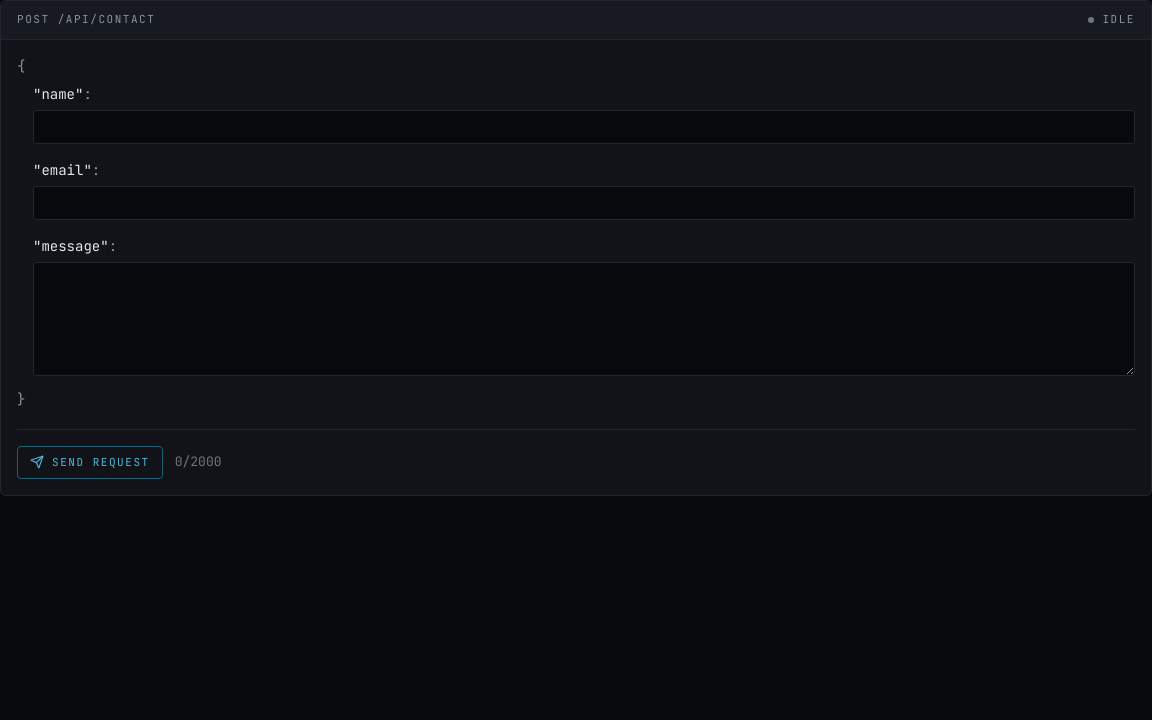
ContactTerminal — validación de cliente › rechaza un email mal formado sin tocar el servidor
This screenshot has width=1152, height=720.
Type "Ana" into the field labelled "\"name\":" at (584, 127), box x1=33 y1=110 x2=1135 y2=144
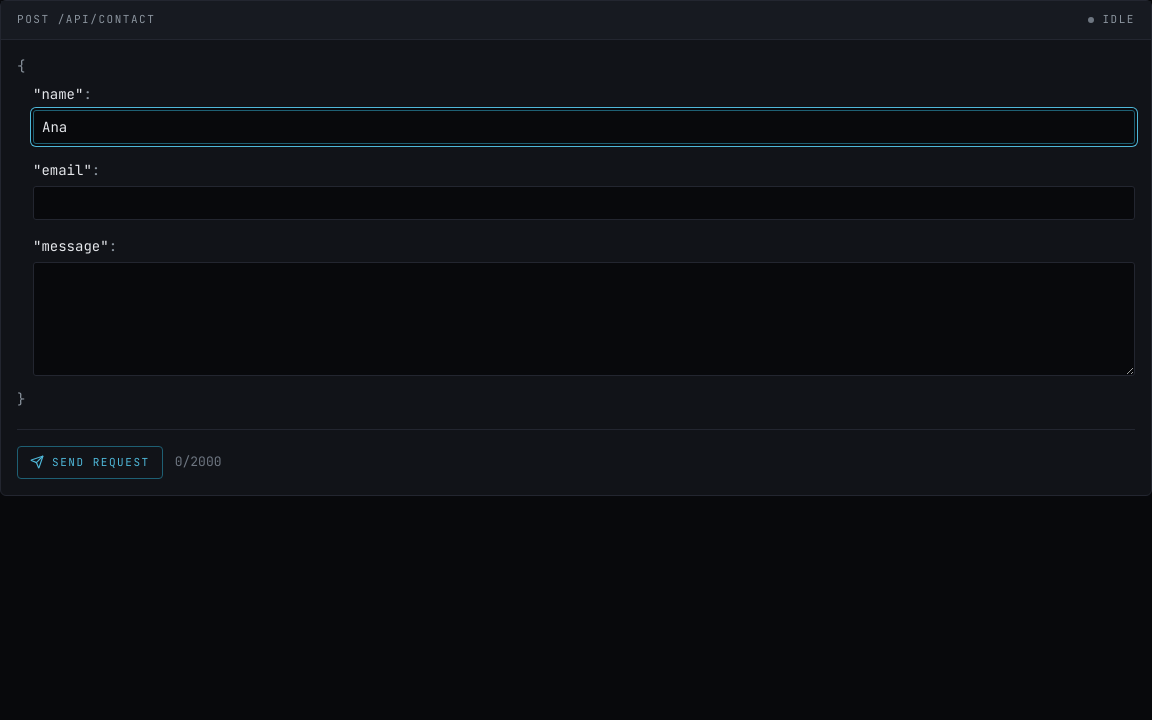
Type "ana@empresa" into the field labelled "\"email\":" at (584, 203), box x1=33 y1=186 x2=1135 y2=220
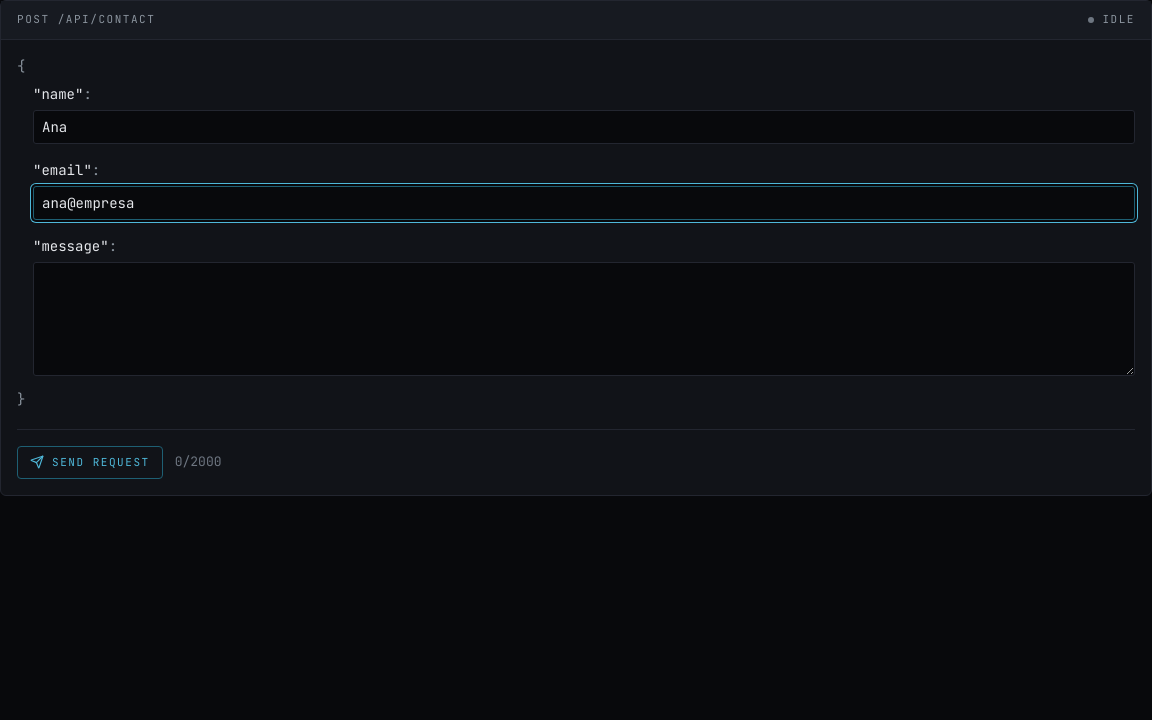
Type "Un mensaje suficientemente largo." into the text box labelled "\"message\":" at (584, 319), box x1=33 y1=262 x2=1135 y2=376
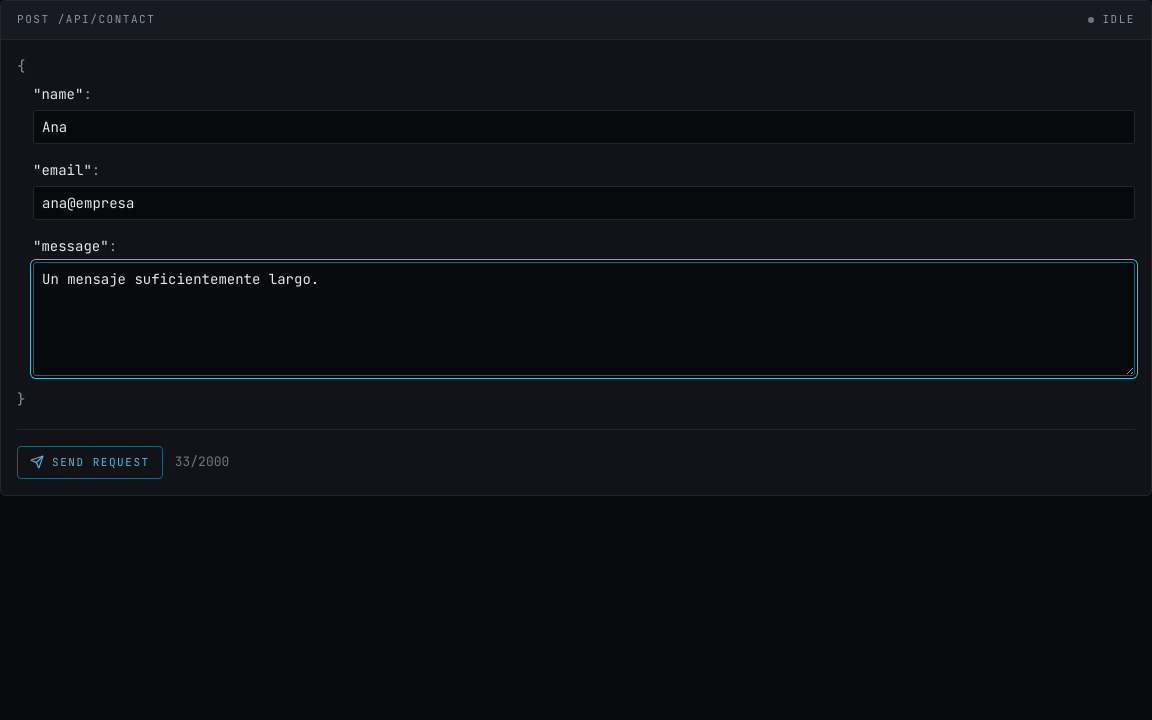
Click the button "send request" at (90, 462), box x1=17 y1=446 x2=163 y2=479
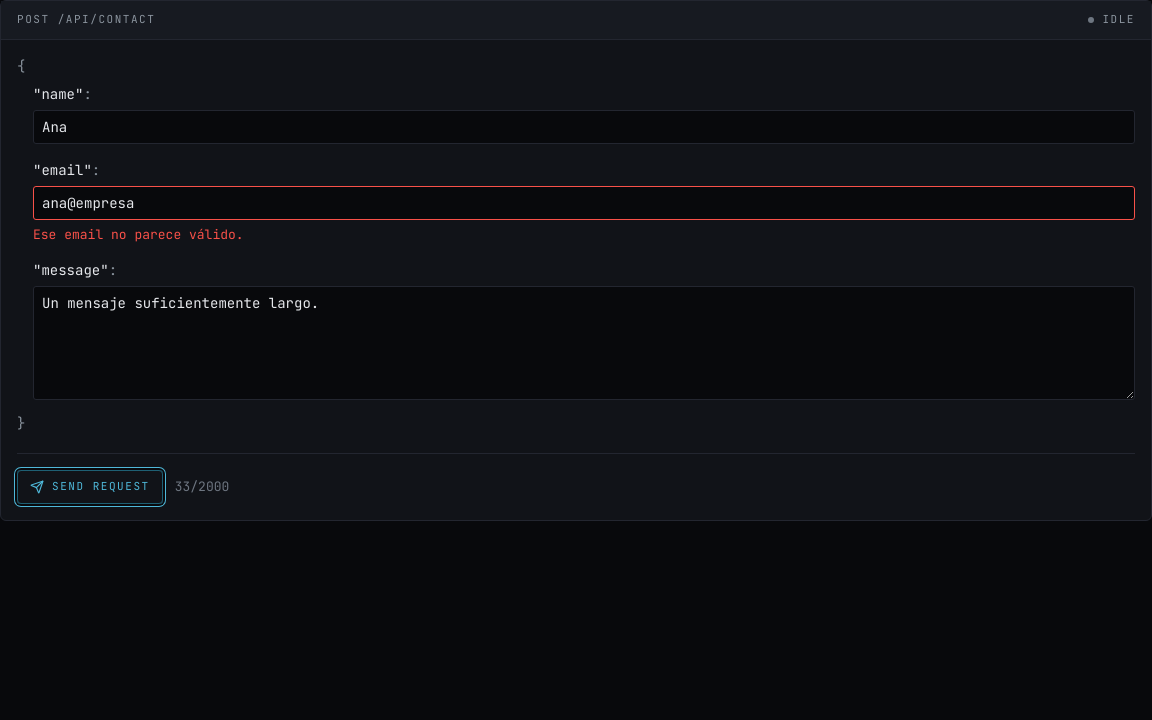
Check: the text "Ese email no parece válido." is shown, box x1=33 y1=226 x2=244 y2=243
